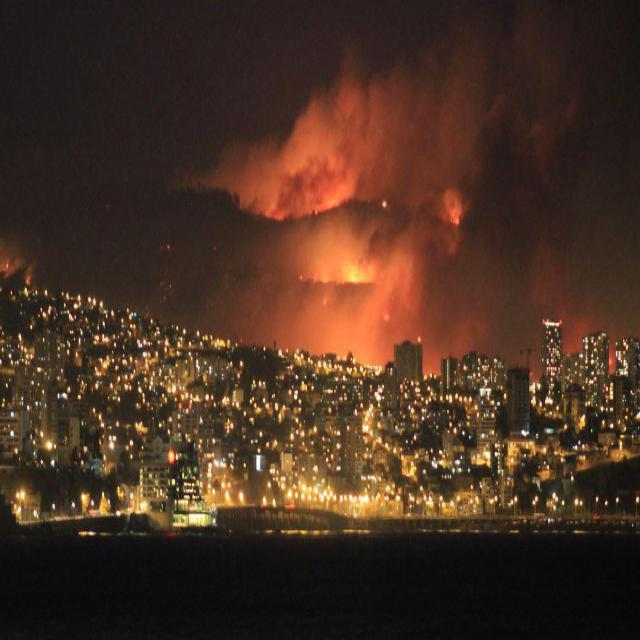Fire: (308, 254, 376, 286), (448, 202, 460, 226), (606, 352, 614, 370)
